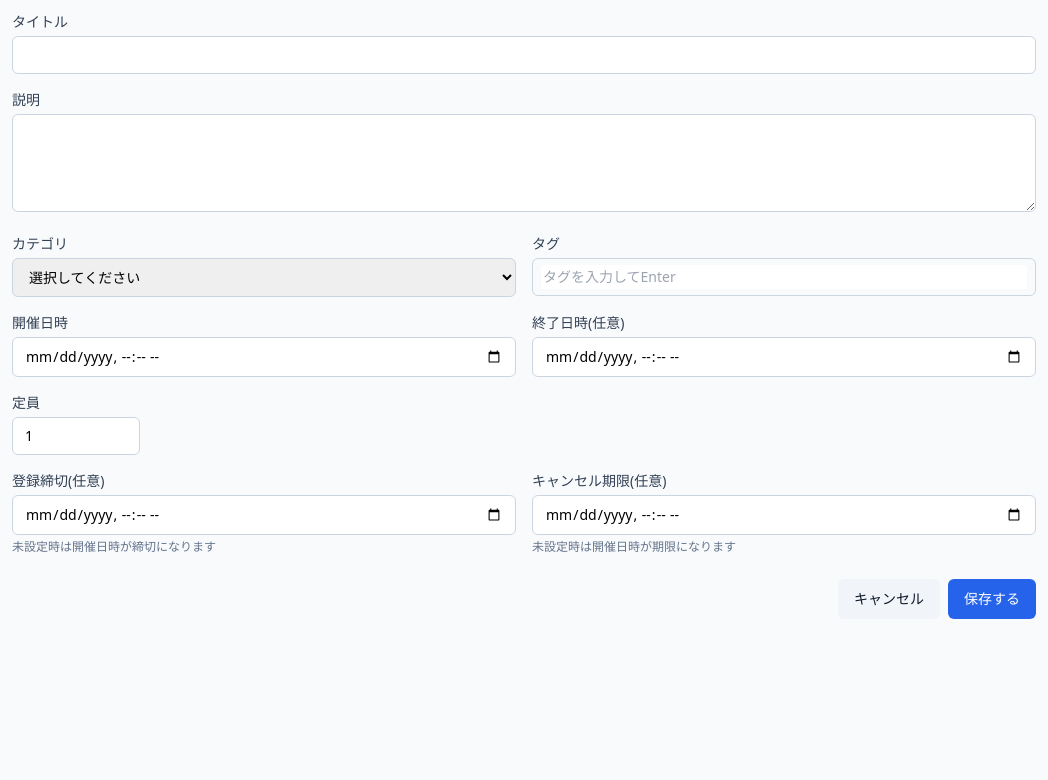
EventForm › サーバー側バリデーションエラー（400）発生時、フォームを閉じずフィールドエラーとして表示する
Type "新しい勉強会" into the field labelled "タイトル" at x=524, y=55, box [12,36,1036,74]
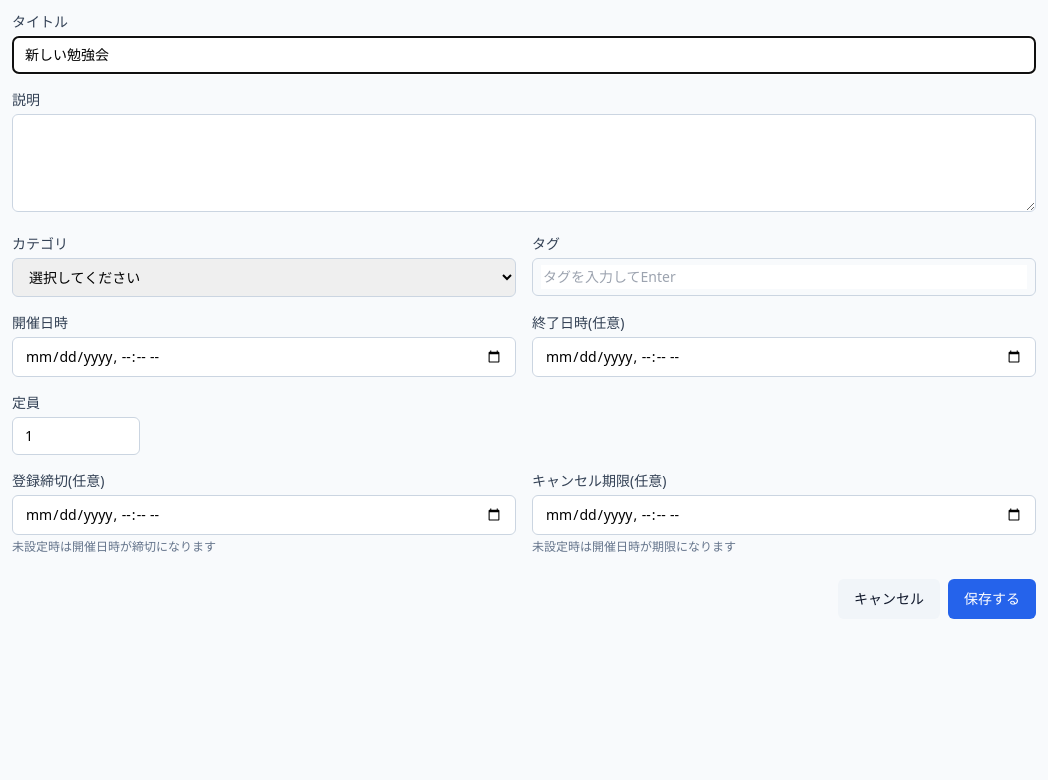
Select "勉強会" in the dropdown labelled "カテゴリ" at x=264, y=278, box [12,258,516,297]
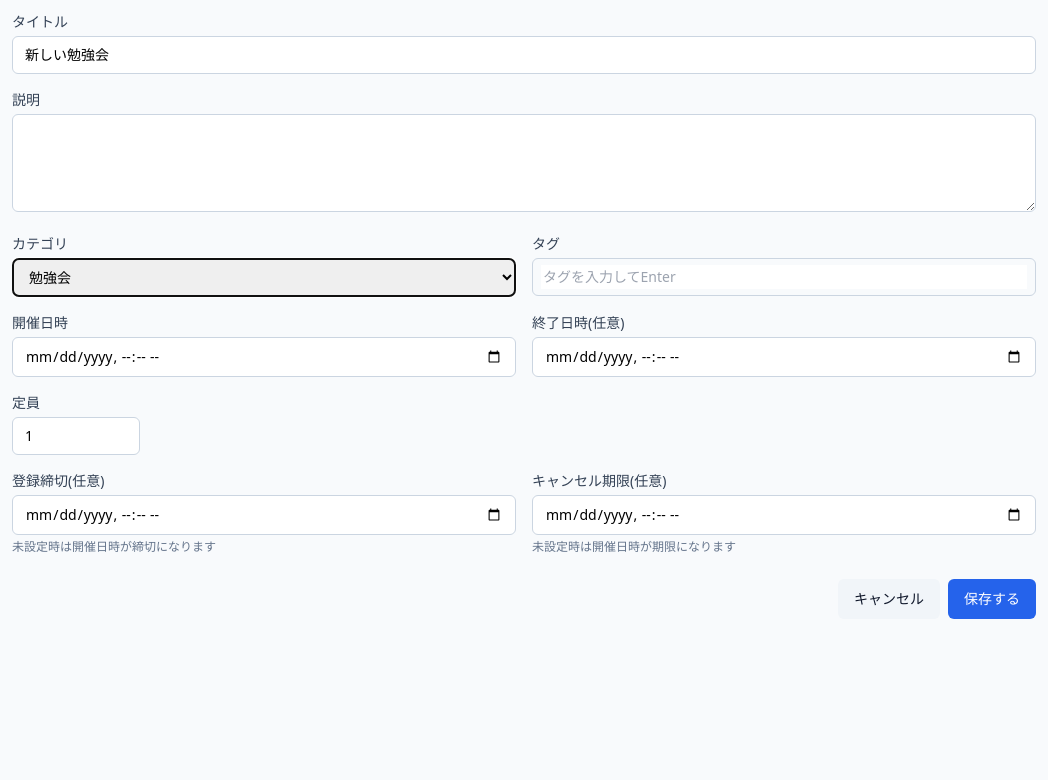
Type "2026-10-01T10:00" into the field labelled "開催日時" at x=264, y=357, box [12,337,516,377]
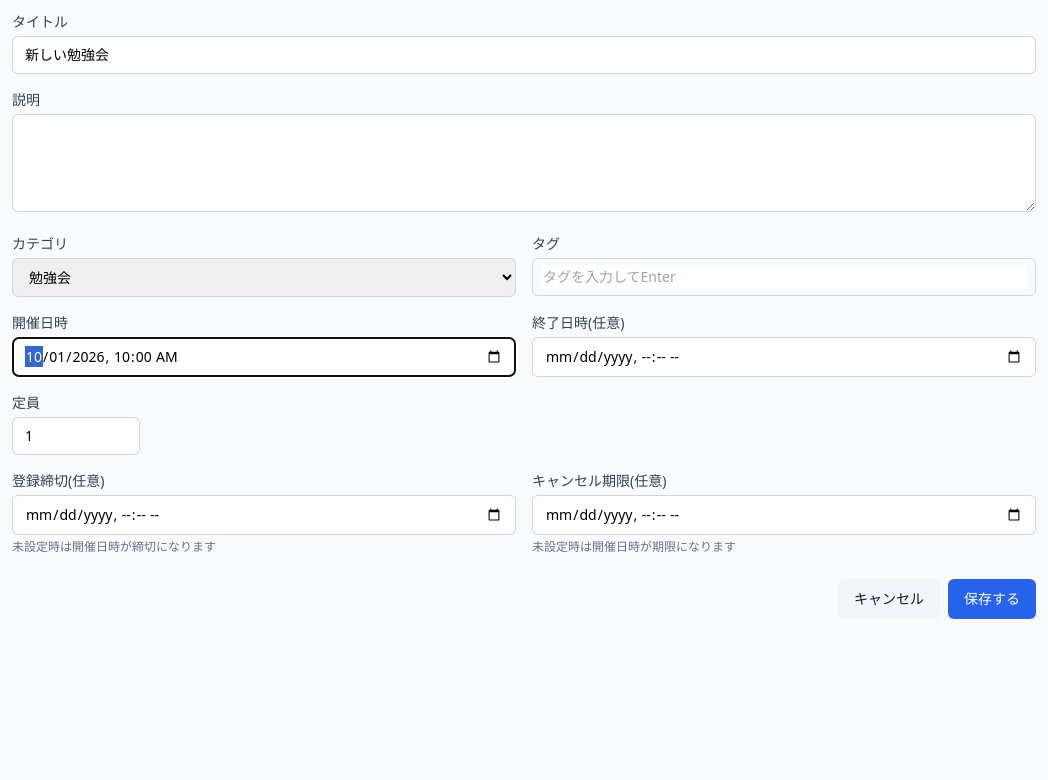
Click the button "保存する" at x=992, y=599, box [948,579,1036,619]
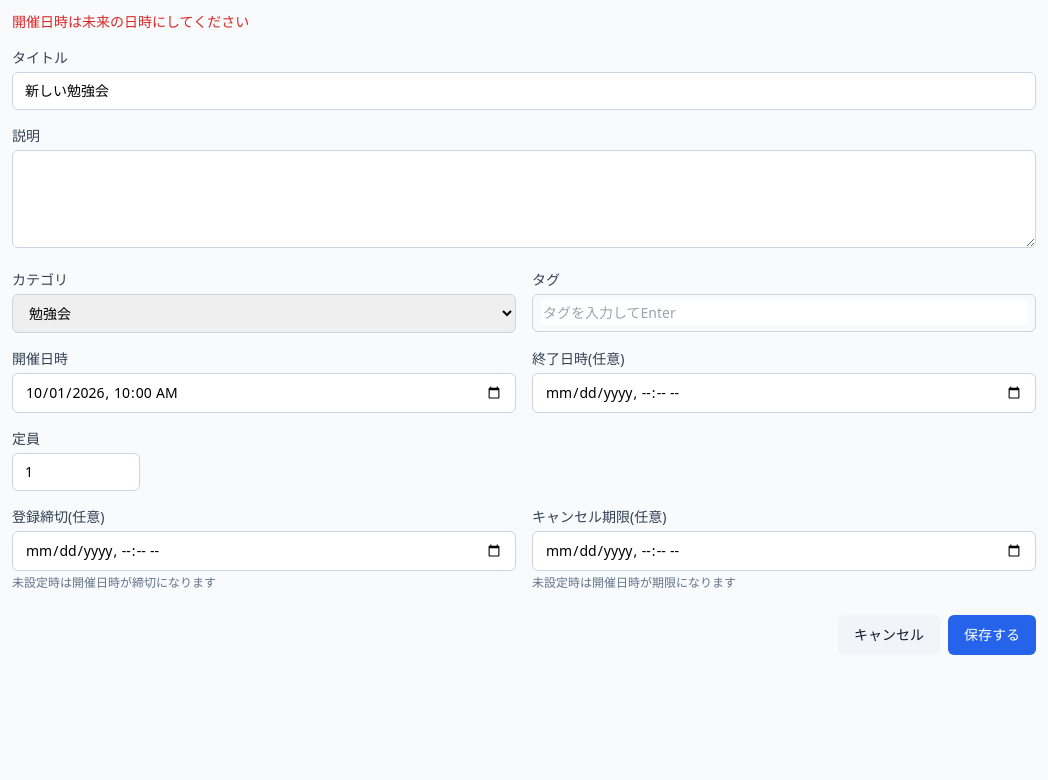
Check: the button "保存する" is shown, box [948,615,1036,655]
Check: the message reads "開催日時は未来の日時にしてください", box [12,12,249,31]
